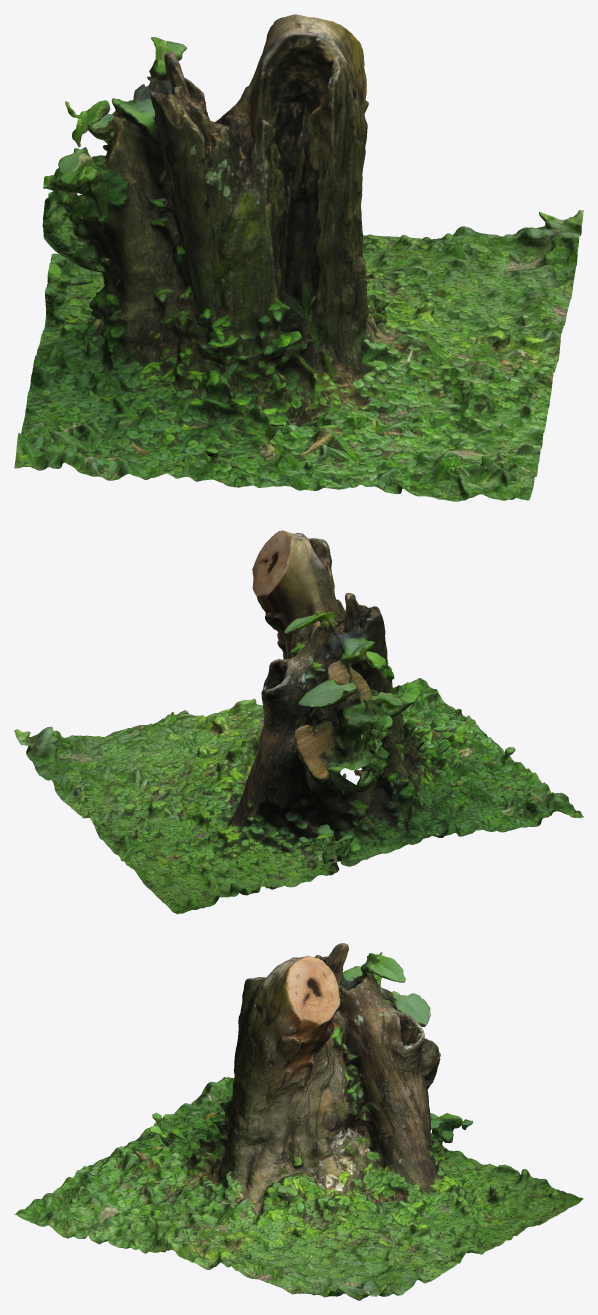
The model's file is life_in_a_stem_dead.glb.
The picture shows the model from 3 angles, top to bottom: view 1: azimuth 30°, elevation 25°; view 2: azimuth 150°, elevation 25°; view 3: azimuth 270°, elevation 25°; orthographic projection. The views are drawn at different scales.
Visible parts, largest first — view 1: Object_2; view 2: Object_2; view 3: Object_2.
Boxes of the visible parts, x1,y1,x2,y2 form: Object_2: (14, 14, 583, 501); Object_2: (14, 530, 583, 914); Object_2: (14, 943, 583, 1300).
Size of the model in its own units: 1.09 by 0.5599 by 1.12.
1 material, 1 textured.
